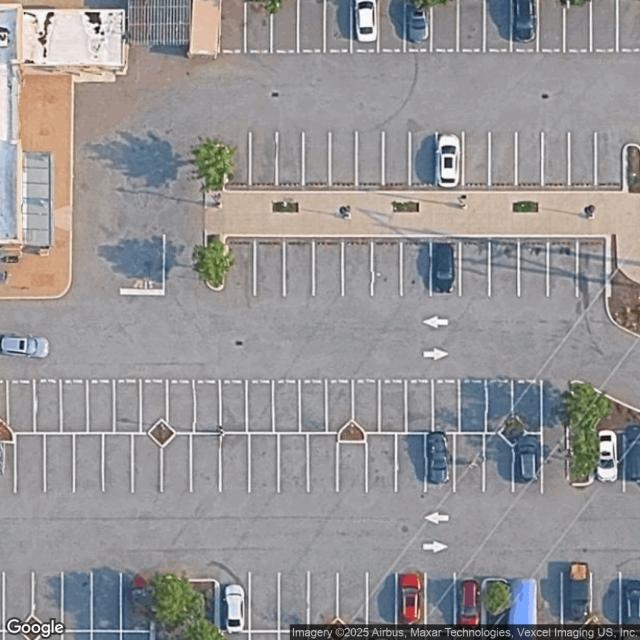car: (565, 561, 591, 622), (398, 573, 423, 625), (430, 243, 456, 292), (426, 431, 450, 483), (2, 337, 49, 363), (621, 578, 640, 639), (516, 433, 540, 480), (458, 579, 482, 625), (438, 133, 458, 187), (223, 584, 244, 632), (598, 432, 617, 484), (406, 0, 428, 43), (513, 1, 536, 42), (356, 0, 376, 42)
lot_boundary: (0, 0, 639, 639)
